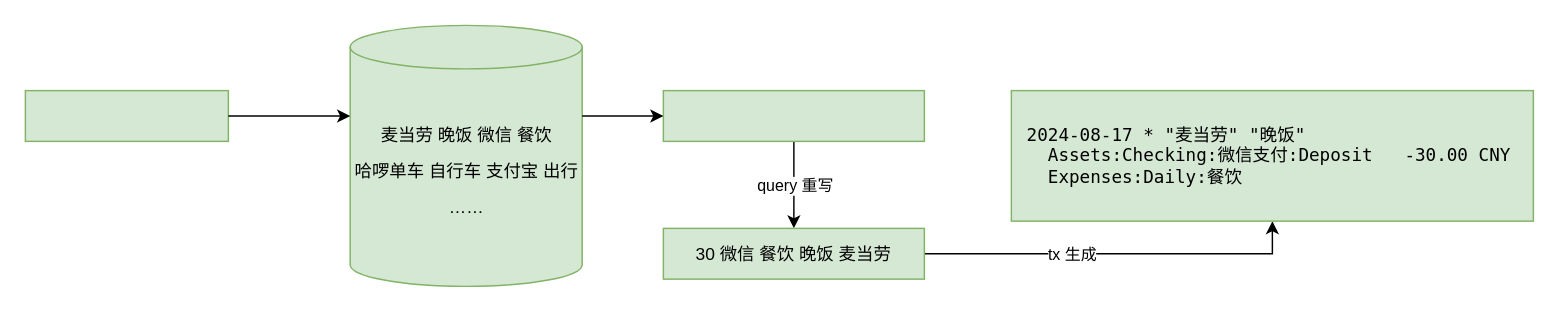
Some shapes in this 1559 by 312 pixel diagram are drawn without their labels. Each missing label, with the centre of its shape:
query: 30 麦当劳 晚饭: the point at 126,115
result: 麦当劳 晚饭 微信 餐饮: the point at 793,115
